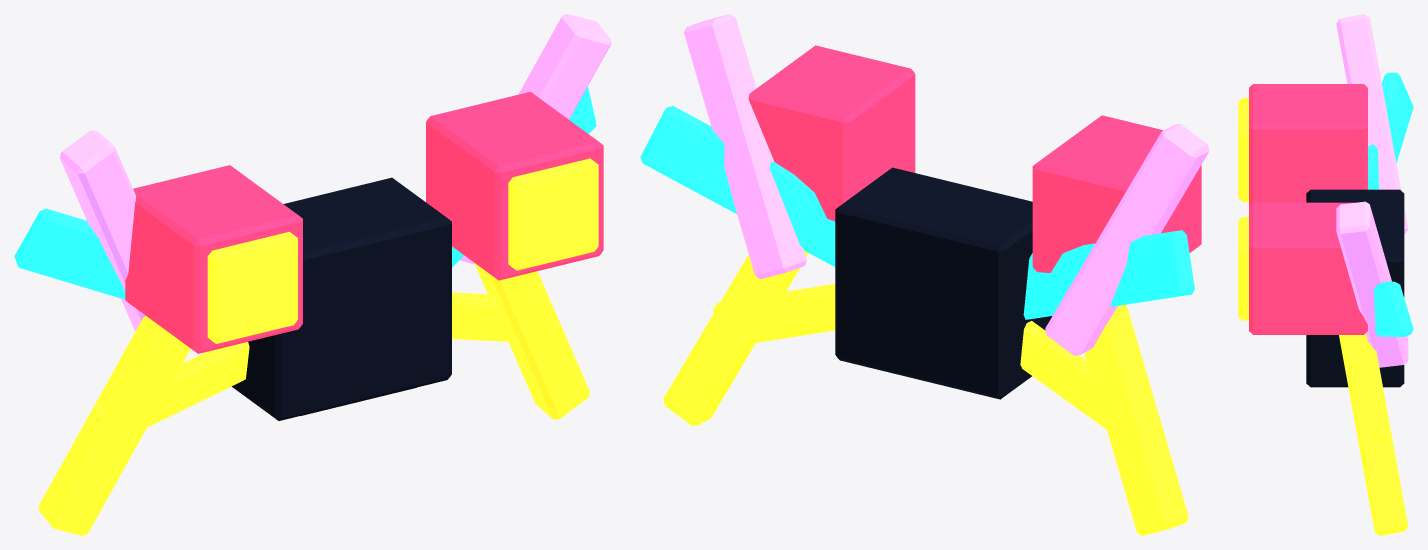
Rendered from mech_armory.glb.
3 renders of one model, left to right at view 1: azimuth 30°, elevation 25°; view 2: azimuth 150°, elevation 25°; view 3: azimuth 270°, elevation 25°, orthographic. The views are drawn at different scales.
Parts seen in each view (by area): view 1: A_Pack, A_Pod_1, A_Pod_-1, N_Funnel_-1_1, A_Warheads_1, A_Warheads_-1, N_Funnel_1_1, N_Funnel_-1_0, S_WingU_-1, N_Funnel_1_0, S_WingL_-1, S_WingL_1 (+1 smaller); view 2: A_Pack, A_Pod_1, A_Pod_-1, N_Funnel_1_0, N_Funnel_-1_0, N_Funnel_-1_1, S_WingU_1, N_Funnel_1_1, S_WingU_-1, S_WingL_-1, S_WingL_1; view 3: A_Pod_-1, A_Pod_1, N_Funnel_1_1, A_Pack, N_Funnel_1_0, N_Funnel_-1_0, S_WingU_-1, S_WingU_1, A_Warheads_1, A_Warheads_-1.
Boxes of the visible parts, x1,y1,x2,y2 form: A_Pack: (231, 177, 451, 420); A_Pod_1: (426, 91, 603, 280); A_Pod_-1: (125, 165, 302, 353); N_Funnel_-1_1: (38, 316, 190, 535); A_Warheads_1: (508, 158, 598, 270); A_Warheads_-1: (207, 232, 297, 343); N_Funnel_1_1: (474, 262, 589, 419); N_Funnel_-1_0: (60, 130, 145, 330); S_WingU_-1: (14, 208, 125, 299); N_Funnel_1_0: (459, 14, 611, 264); S_WingL_-1: (90, 342, 249, 427); S_WingL_1: (452, 292, 514, 341); A_Pack: (835, 167, 1052, 399); A_Pod_1: (748, 45, 915, 221); A_Pod_-1: (1032, 115, 1201, 272); N_Funnel_1_0: (684, 14, 806, 279); N_Funnel_-1_0: (1045, 124, 1209, 355); N_Funnel_-1_1: (1084, 304, 1188, 535); S_WingU_1: (640, 106, 835, 266); N_Funnel_1_1: (663, 250, 808, 425); S_WingU_-1: (1023, 230, 1194, 319); S_WingL_-1: (1020, 321, 1152, 429); S_WingL_1: (713, 284, 835, 343); A_Pod_-1: (1249, 84, 1367, 205); A_Pod_1: (1249, 202, 1367, 334); N_Funnel_1_1: (1339, 333, 1408, 535); A_Pack: (1306, 189, 1404, 387); N_Funnel_1_0: (1336, 201, 1408, 367); N_Funnel_-1_0: (1336, 14, 1408, 234); S_WingU_-1: (1368, 72, 1413, 189); S_WingU_1: (1373, 281, 1413, 336); A_Warheads_1: (1238, 217, 1248, 320); A_Warheads_-1: (1238, 98, 1248, 201).
Size of the model in its own units: 2.54 by 1.73 by 0.8246.
